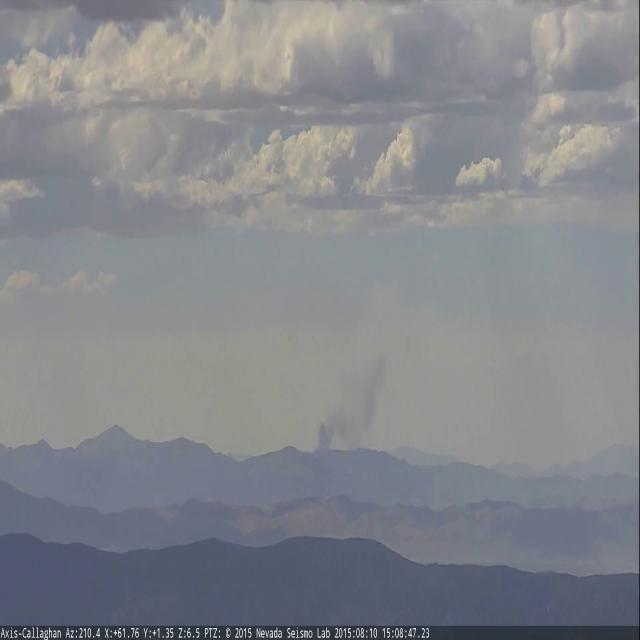smoke: (313, 336, 394, 456)
